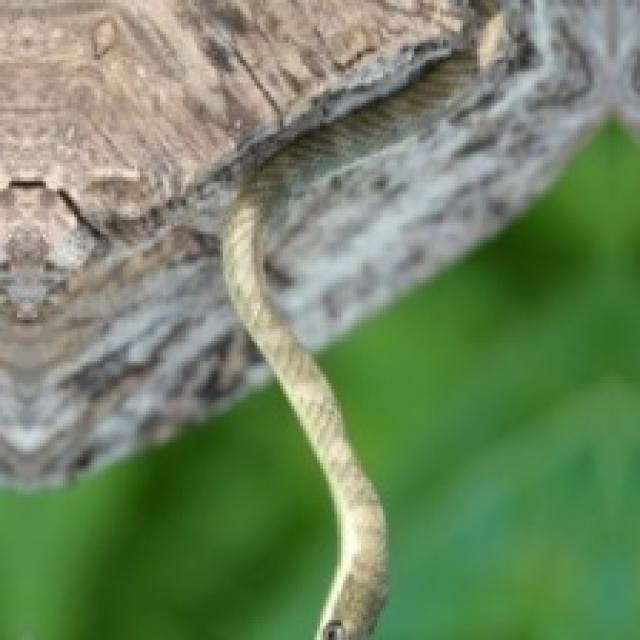paradise tree snake: (220, 11, 503, 637)
